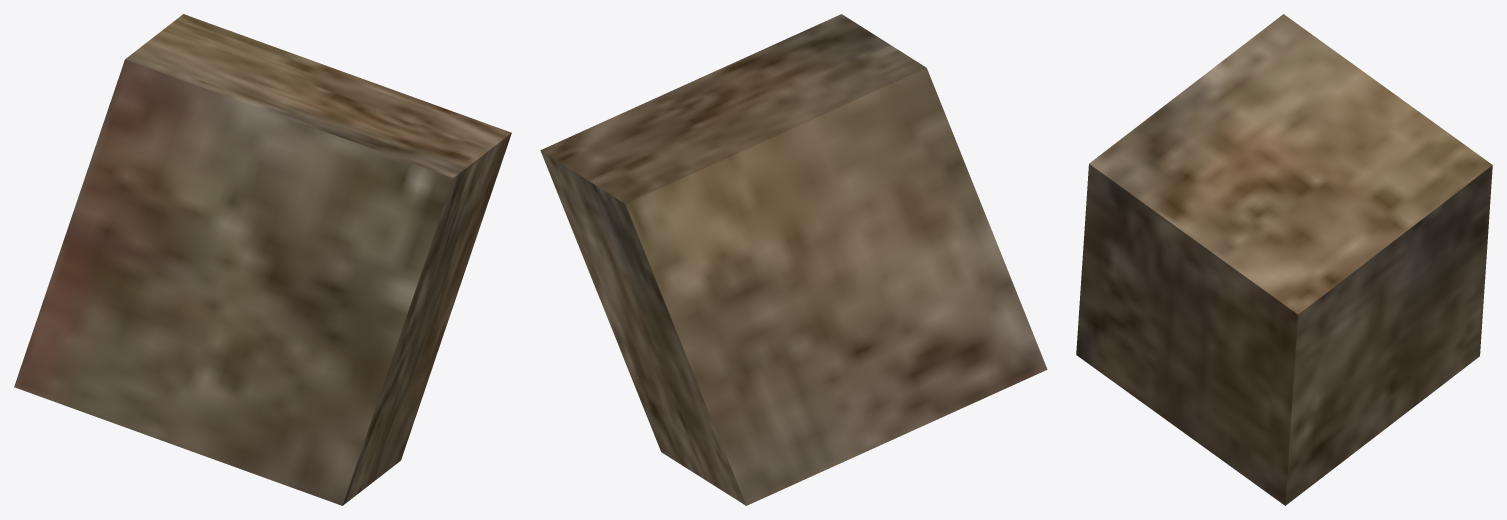
The model's file is Rock.fbx.
3 renders of one model, left to right at view 1: azimuth 30°, elevation 25°; view 2: azimuth 150°, elevation 25°; view 3: azimuth 270°, elevation 25°, orthographic. The views are drawn at different scales.
Visible parts, largest first — view 1: pCube1; view 2: pCube1; view 3: pCube1.
Part boxes in pixels (x1,y1,x2,y2): pCube1: [14, 14, 511, 505]; pCube1: [540, 14, 1047, 505]; pCube1: [1076, 14, 1492, 505].
Bounding box in the file's own units: 1.69 × 1.47 × 1.46.
Materials: 1 (1 with a texture image).
